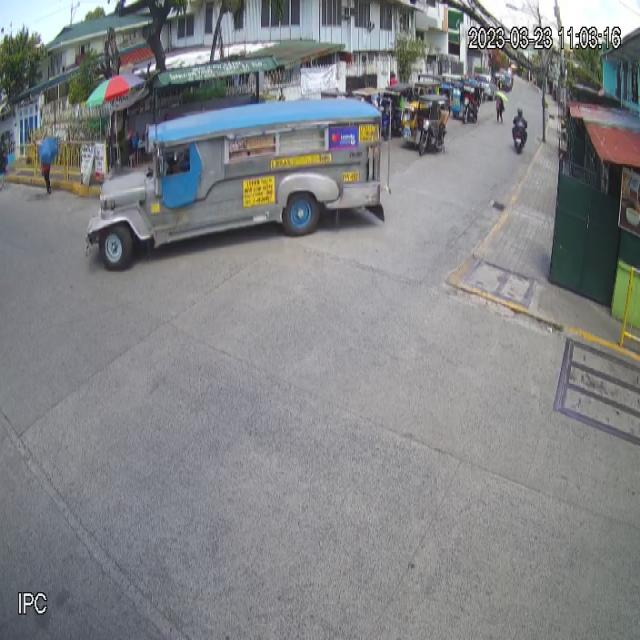Jeep: (84, 94, 386, 270)
